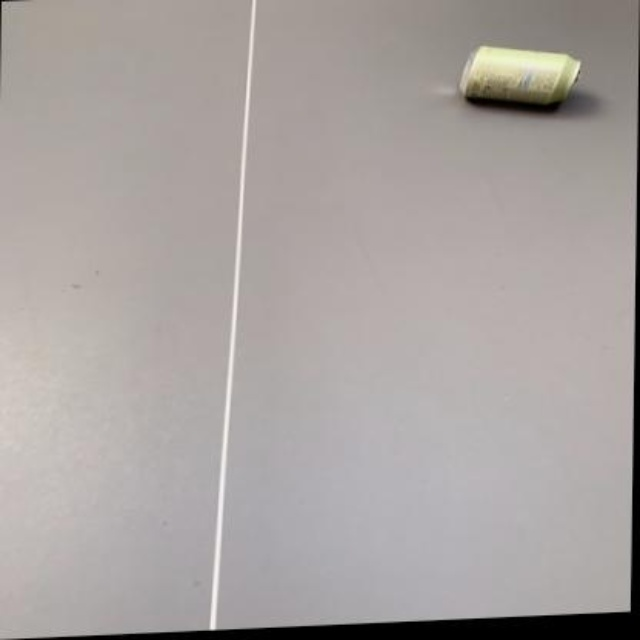trash: (458, 46, 580, 105)
